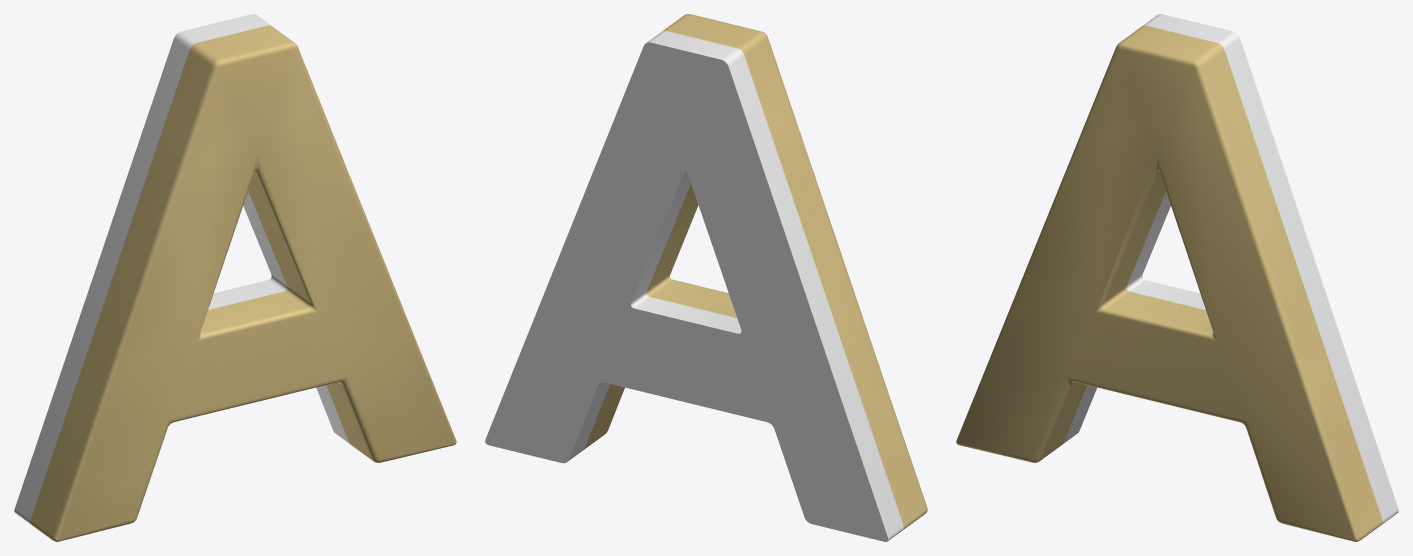
Rendered from LettersLightUp01_A.FBX.
3 renders of one model, left to right at view 1: azimuth 30°, elevation 25°; view 2: azimuth 150°, elevation 25°; view 3: azimuth 330°, elevation 25°, orthographic.
Visible parts, largest first — view 1: LettersLightUp01_A; view 2: LettersLightUp01_A; view 3: LettersLightUp01_A.
Boxes of the visible parts, x1,y1,x2,y2 form: LettersLightUp01_A: [14, 14, 456, 541]; LettersLightUp01_A: [485, 14, 927, 541]; LettersLightUp01_A: [956, 14, 1398, 541].
Size of what is drawn, in the model's own units: 0.5726 by 0.6001 by 0.1012.
